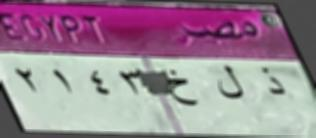1: (49, 65, 75, 99)
2: (14, 62, 39, 94)
3: (116, 66, 143, 100)
4: (86, 67, 111, 101)
khaa: (165, 65, 201, 115)
laam: (216, 63, 245, 106)
zaal: (256, 65, 289, 101)
